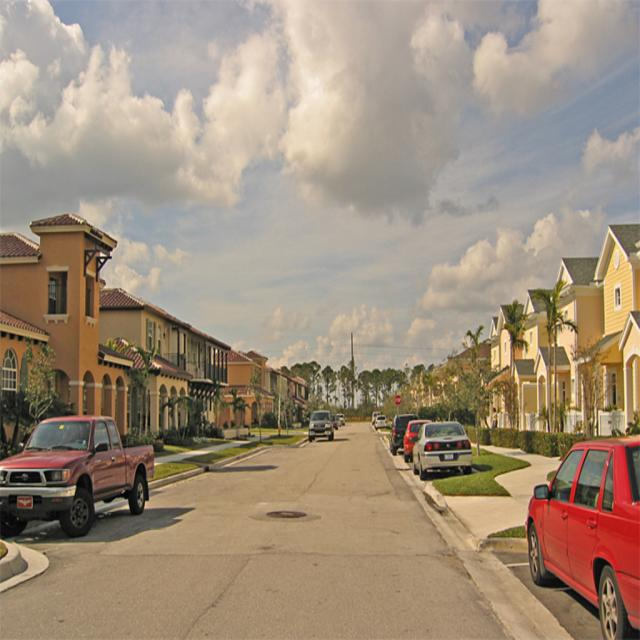car: (416, 423, 472, 472), (308, 412, 333, 441), (373, 414, 388, 429)
